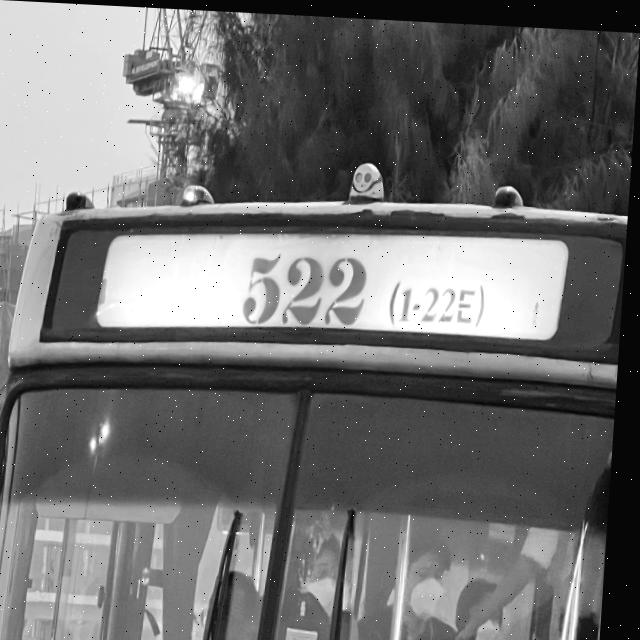BMTA-bus: (0, 133, 633, 640)
Bus Line Number: (237, 235, 501, 332)
